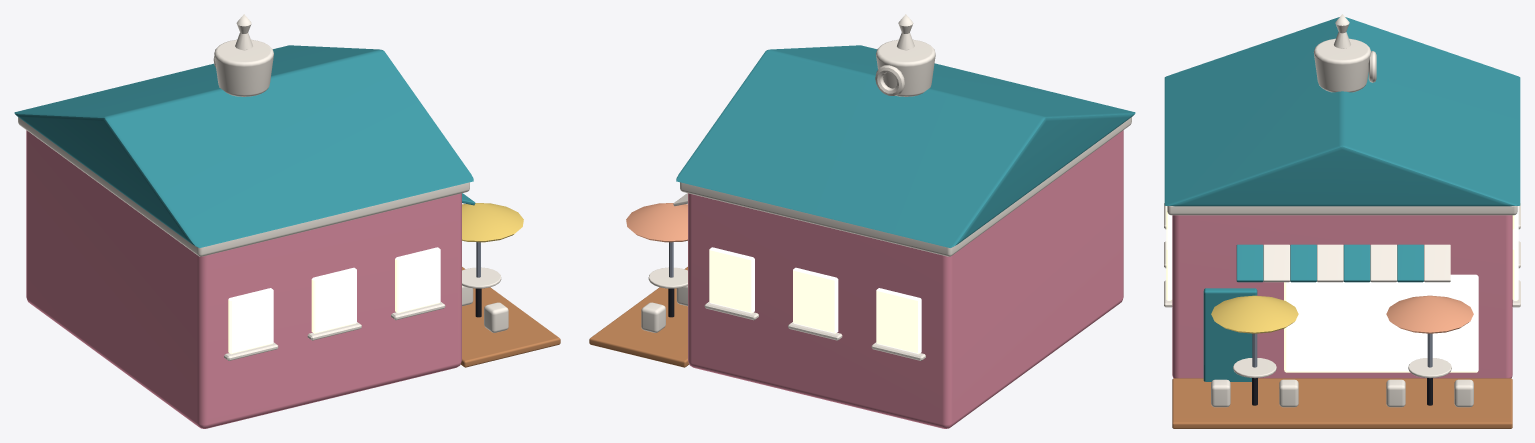
File: cafe.glb
3 renders of one model, left to right at view 1: azimuth 30°, elevation 25°; view 2: azimuth 150°, elevation 25°; view 3: azimuth 270°, elevation 25°, orthographic. The views are drawn at different scales.
Visible parts, largest first — view 1: cafe; view 2: cafe; view 3: cafe.
Boxes of the visible parts, x1,y1,x2,y2 form: cafe: (14,14,560,428); cafe: (589,14,1135,428); cafe: (1164,14,1520,428).
Bounding box in the file's own units: 8.4 × 7 × 7.34.
1 material, 1 textured.
